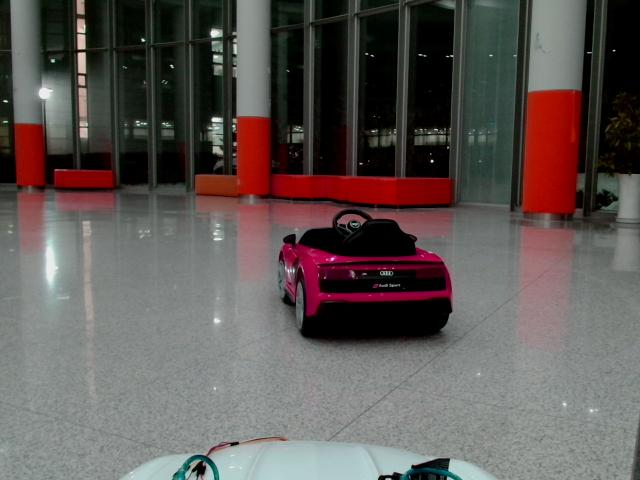car: (277, 210, 453, 333)
